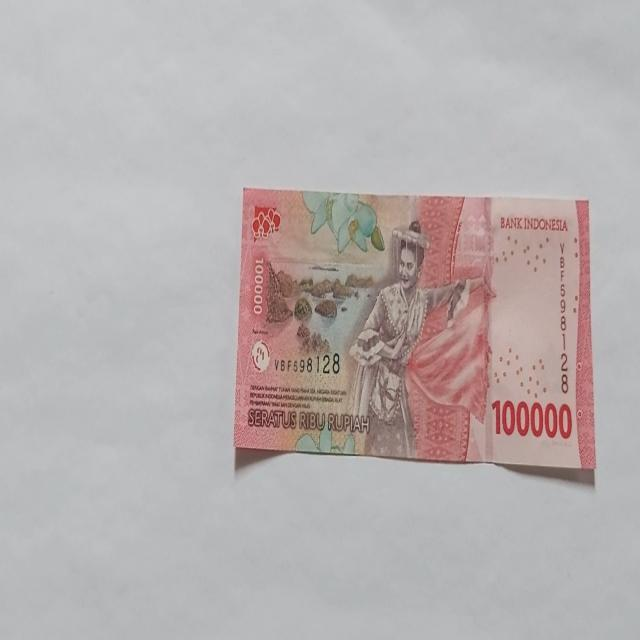seratus ribu rupiah: (232, 188, 596, 472), (344, 220, 487, 460)
